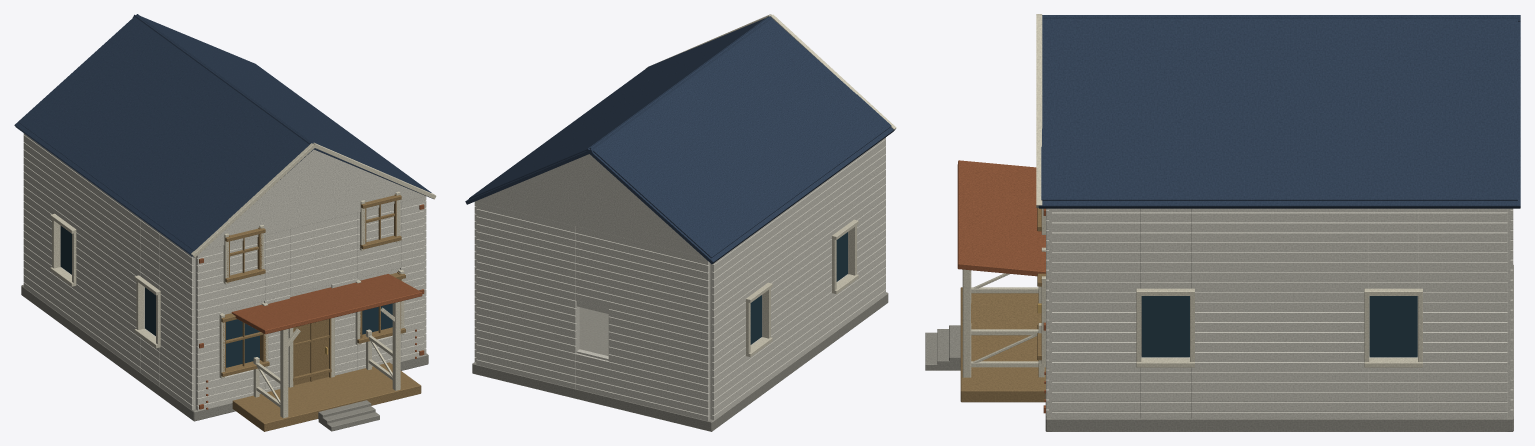
File: HOUSEB2_lod0.glb
The picture shows the model from 3 angles, left to right: view 1: azimuth 30°, elevation 25°; view 2: azimuth 150°, elevation 25°; view 3: azimuth 270°, elevation 25°; orthographic projection. The views are drawn at different scales.
Visible parts, largest first — view 1: HOUSEB2_LOD0; view 2: HOUSEB2_LOD0; view 3: HOUSEB2_LOD0.
Part boxes in pixels (box(x1,y1,x2,y2)): HOUSEB2_LOD0: box(14, 14, 436, 431); HOUSEB2_LOD0: box(465, 14, 896, 431); HOUSEB2_LOD0: box(925, 14, 1520, 431).
Size of the model in its own units: 7.51 by 7.41 by 11.76.
11 materials, 8 textured.
